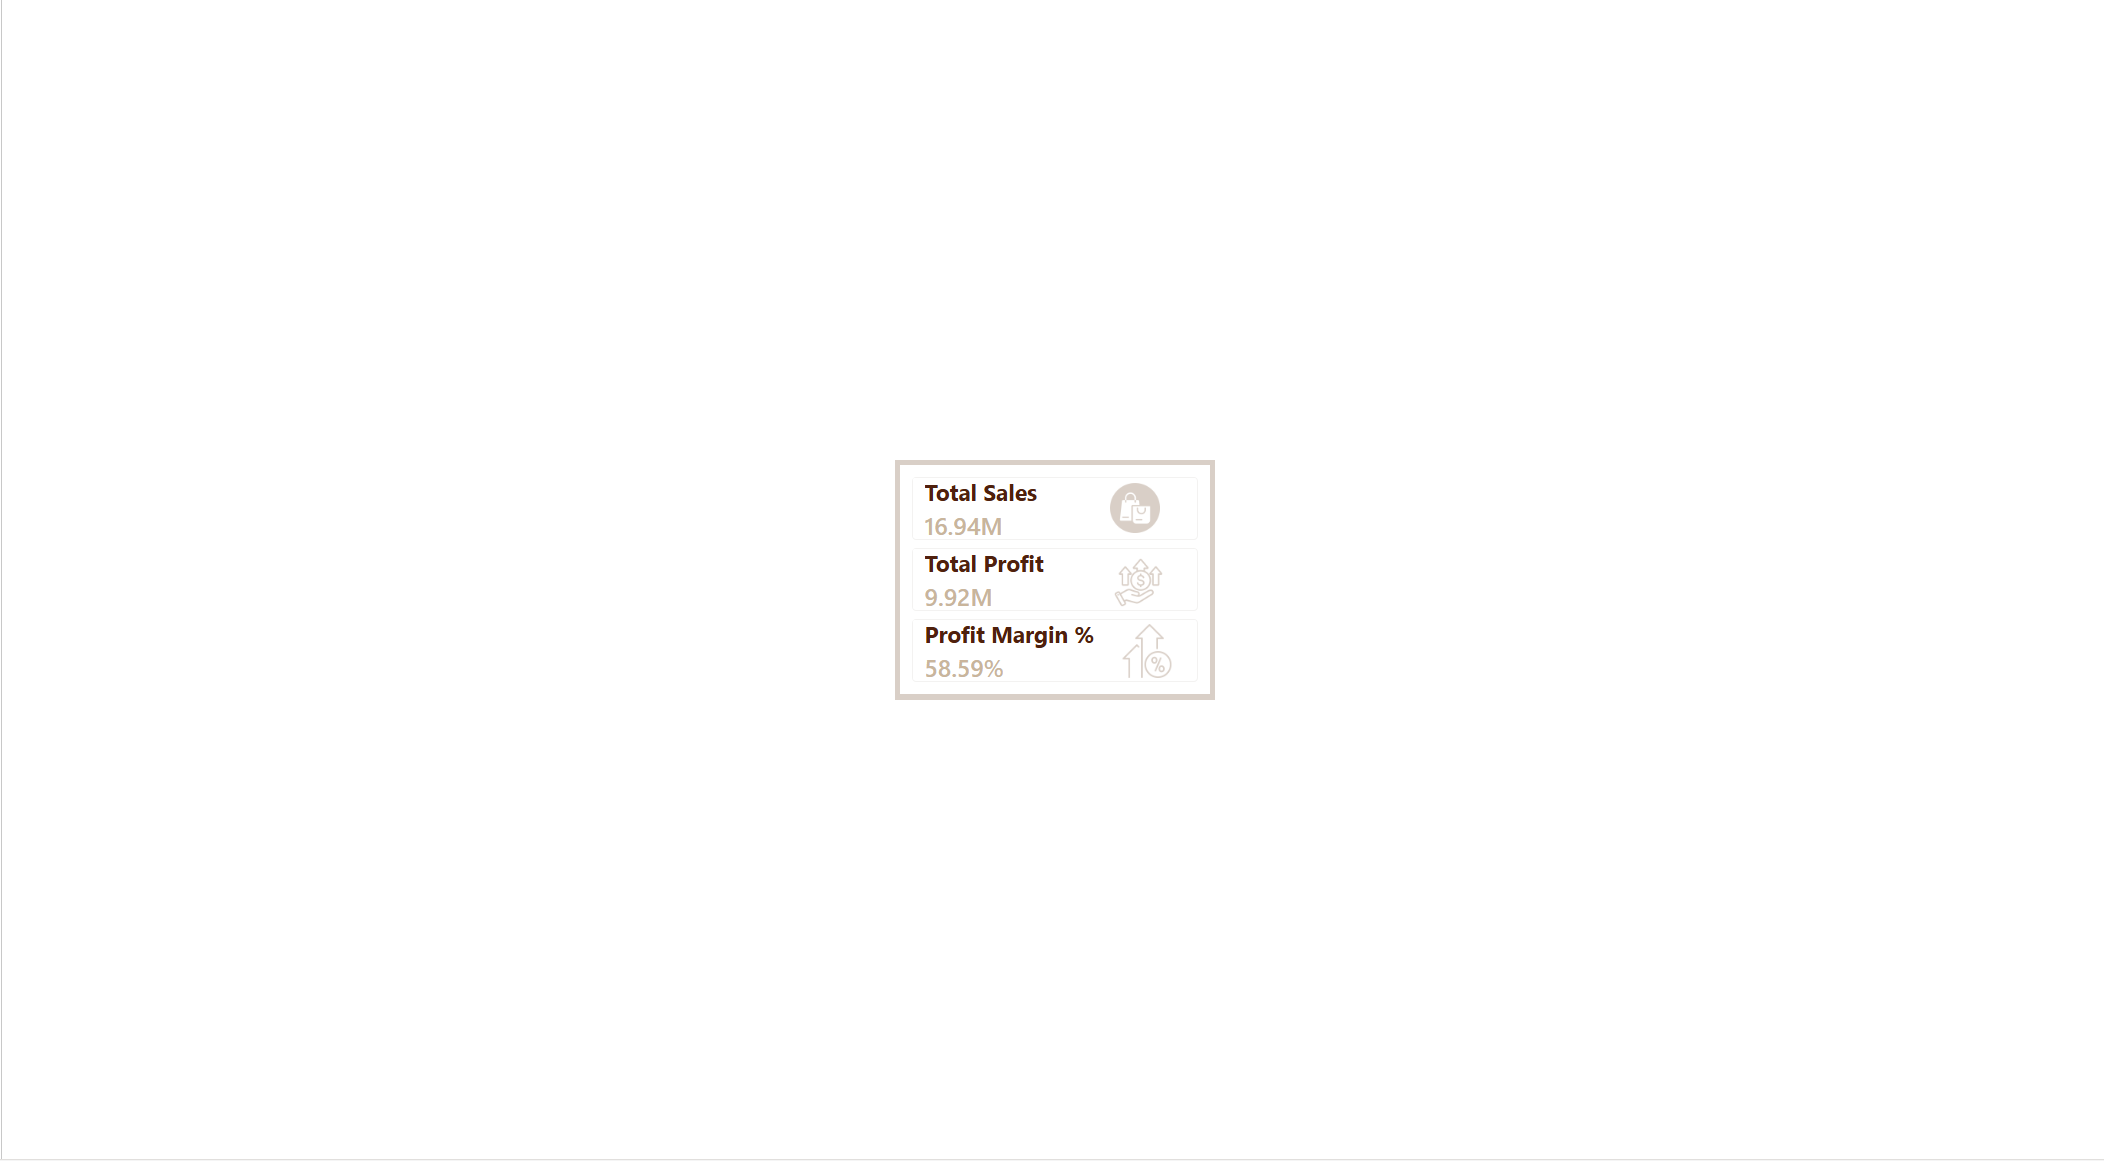

The dashboard page shown, as its layout file describes it:
{"tool":"powerbi","page":{"name":"Tooltip","canvas":[320,240],"ordinal":3},"visuals":[{"type":"cardVisual","fields":{"Data":["_Measures.Total Sales","_Measures.Total Profit","_Measures.Profit Margin %"]},"box":[0,0,320,240],"z":0},{"type":"image","box":[191,23,98,50],"z":1},{"type":"image","box":[191,98,105,49],"z":2},{"type":"image","box":[199,164,106,54],"z":3}]}

Visuals, with their boxes on the page's 320x240 design canvas (x1, y1, x2, y2). These are canvas units, not pixel positions in the 2104x1161 screenshot, which may show the page scaled, cropped or inside an application window:
cardVisual - _Measures.Total Sales x _Measures.Total Profit: pyautogui.locateOnScreen(0, 0, 320, 240)
image: pyautogui.locateOnScreen(191, 23, 289, 73)
image: pyautogui.locateOnScreen(191, 98, 296, 147)
image: pyautogui.locateOnScreen(199, 164, 305, 218)
